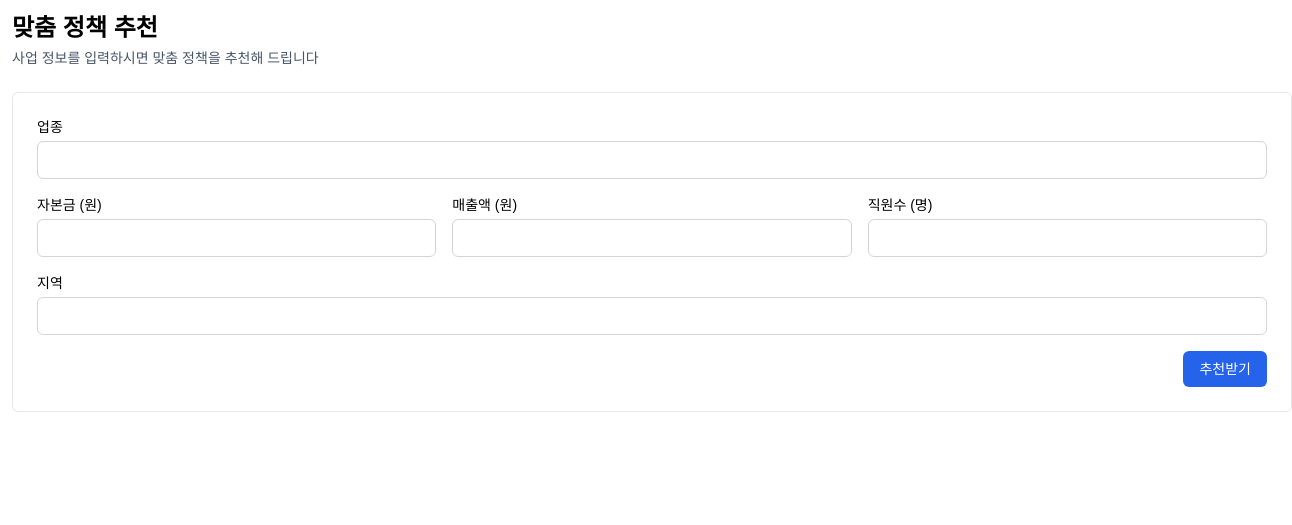
Test: PolicyMatchView — C-03 익명 매칭 + SPEC-CMS-AI-002 하이브리드 › 결과가 빈 배열이면 matchEmpty 메시지
Type "농업" into the field with test id "match-industry-input" at (652, 160), box [37, 141, 1267, 179]
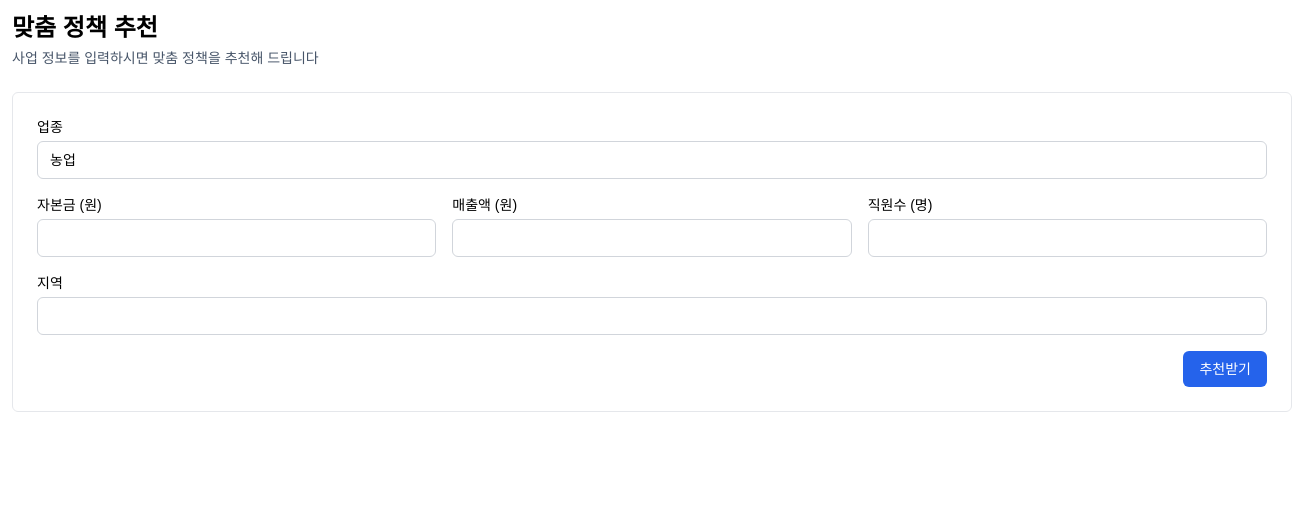
Submit the form with test id "policy-match-form"
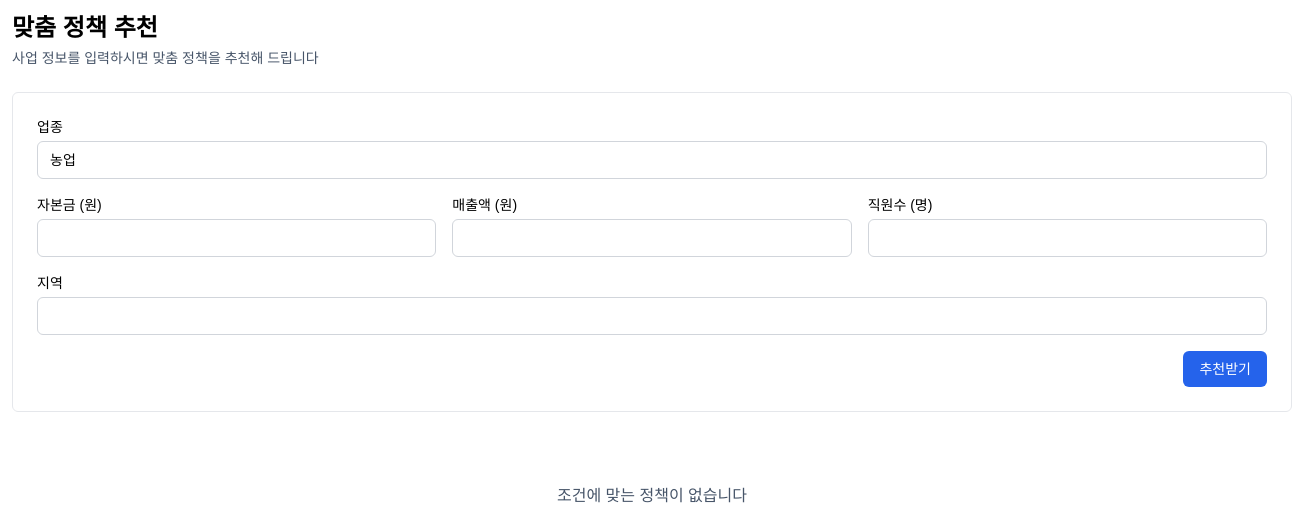
Check: the text "조건에 맞는 정책이 없습니다" is shown, box [557, 484, 747, 508]
